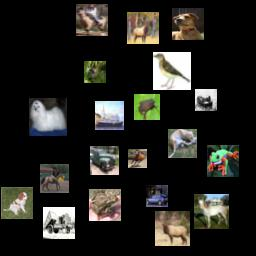automobile: (90, 146, 119, 175), (146, 185, 168, 207)
bird: (153, 52, 191, 90)
deer: (155, 211, 190, 246), (127, 12, 159, 44), (84, 61, 106, 83)
dog: (29, 98, 67, 136), (172, 8, 204, 40), (1, 187, 33, 219), (168, 129, 197, 158)
frog: (89, 189, 121, 221), (207, 145, 239, 177), (134, 94, 160, 120)
ship: (95, 101, 124, 130), (195, 89, 217, 111)
truck: (43, 207, 75, 239)
